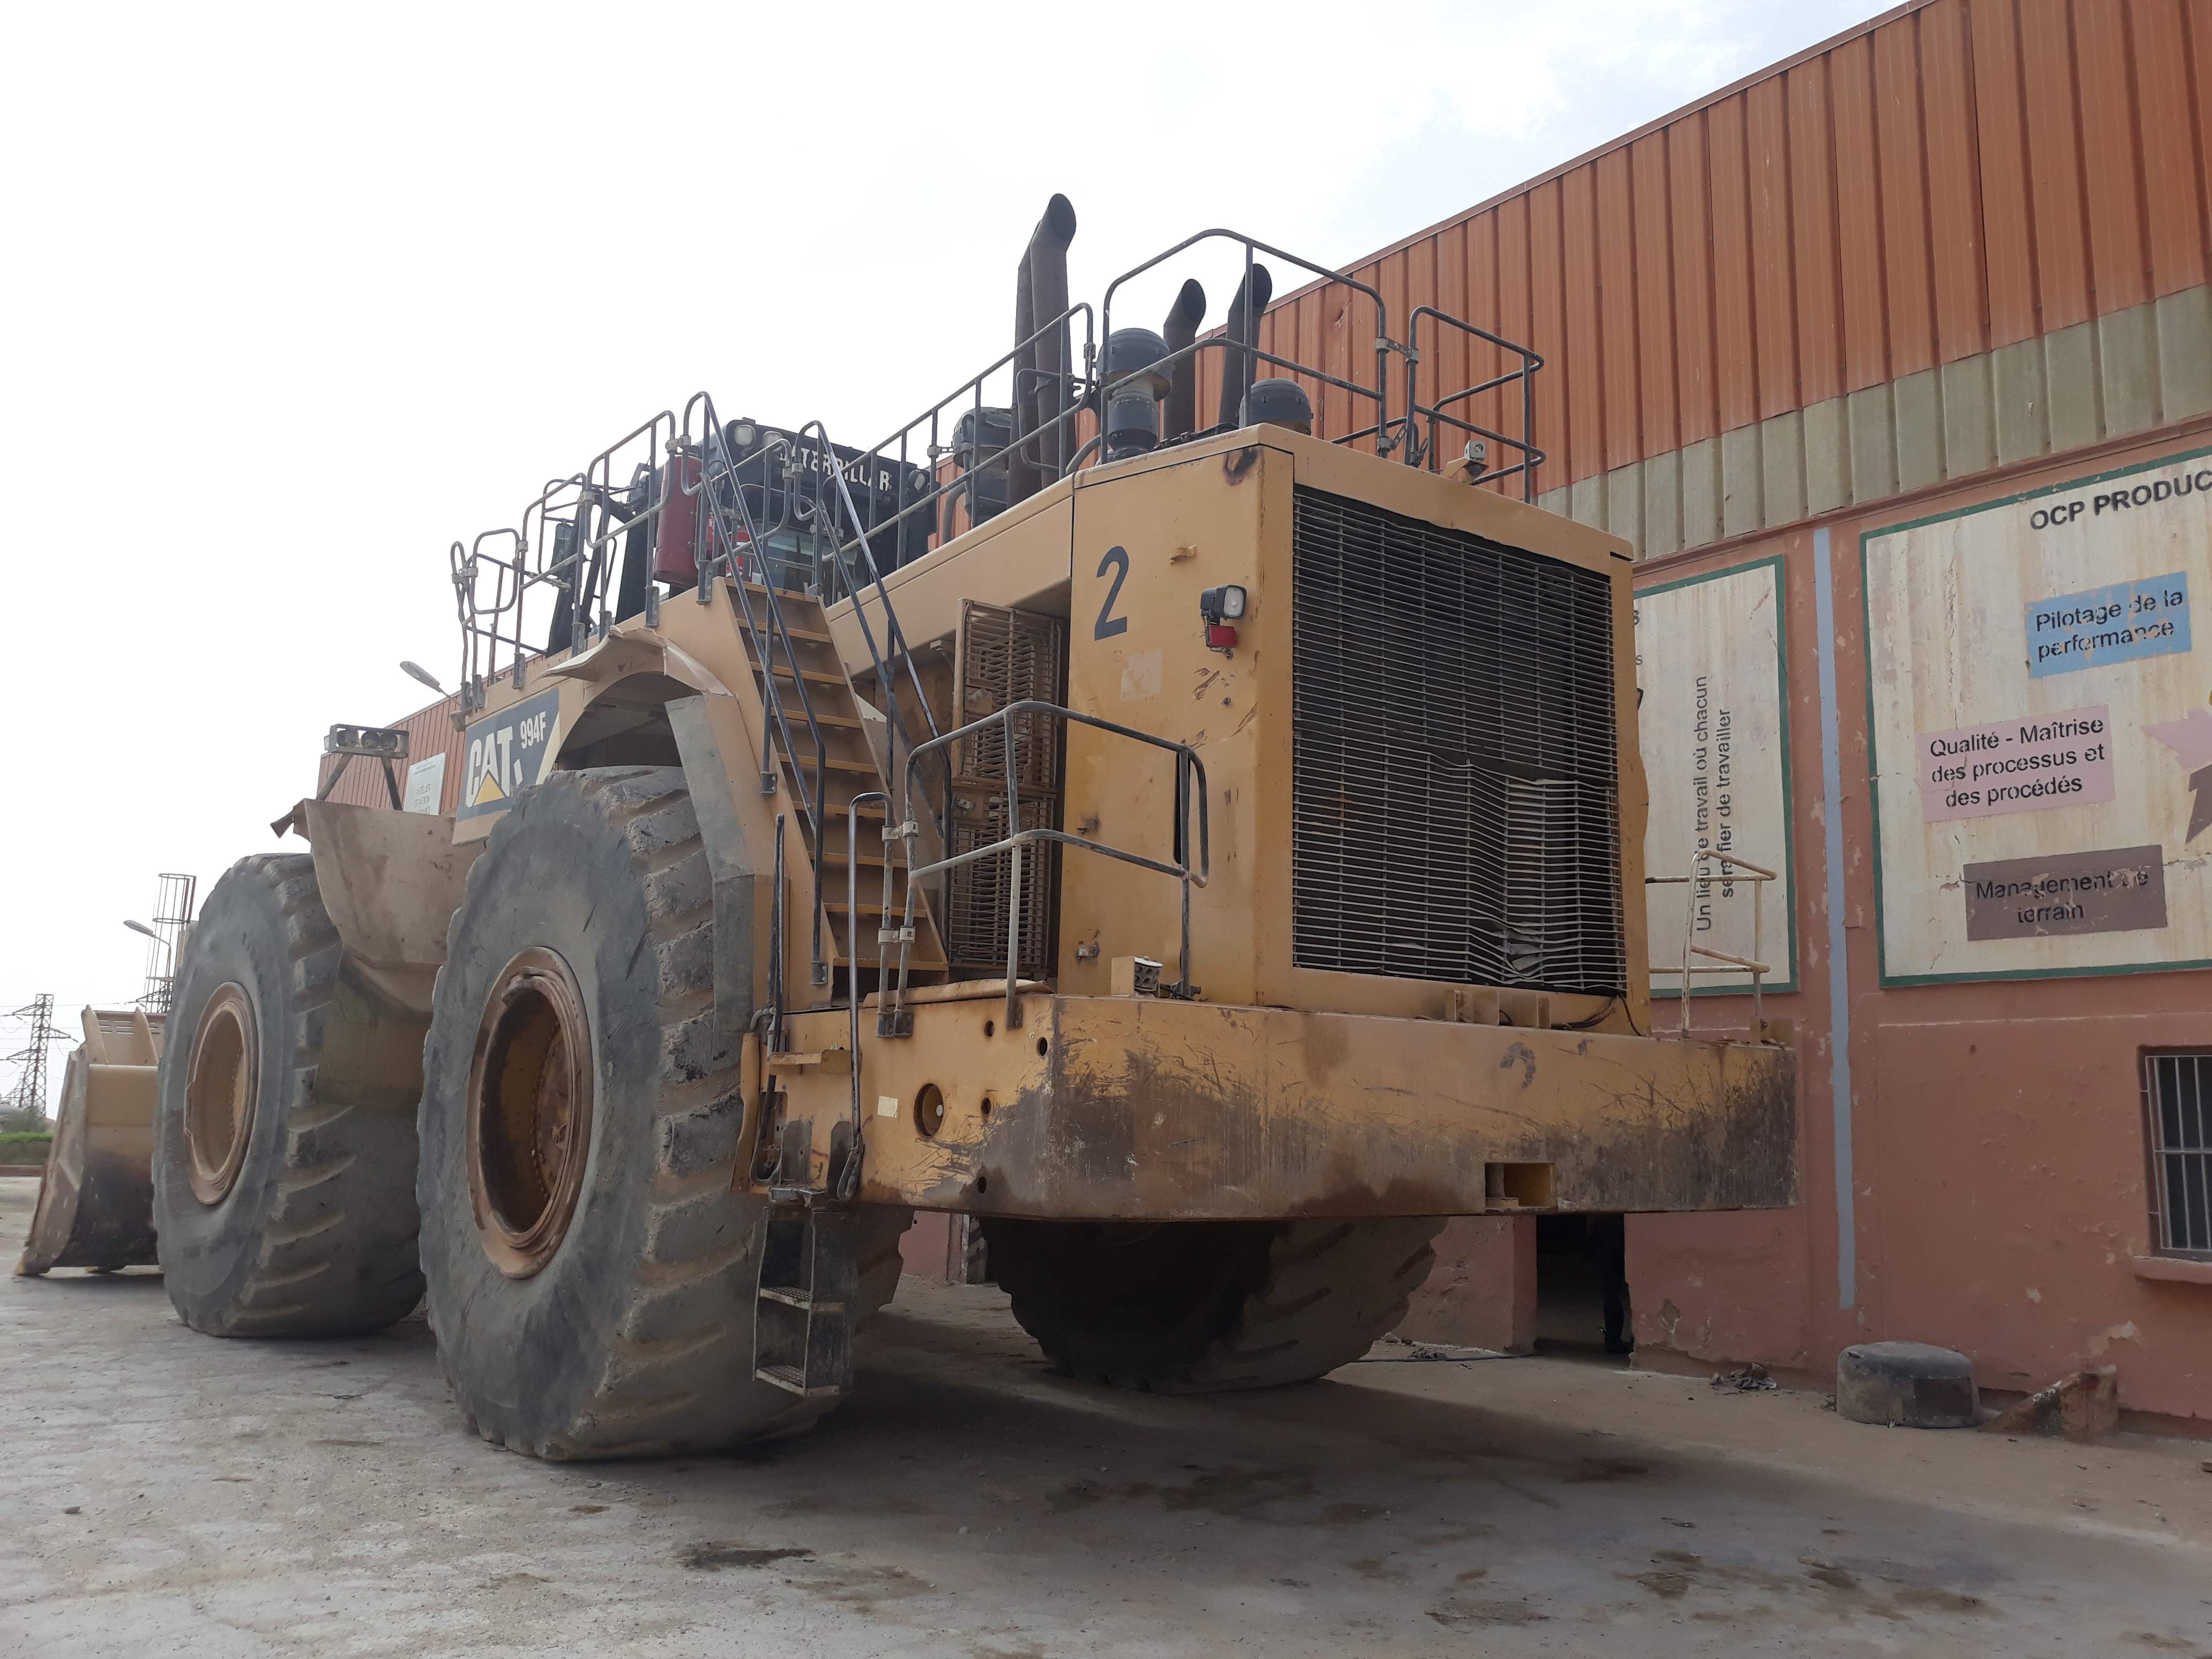chargeuse: (28, 228, 1761, 1525)
